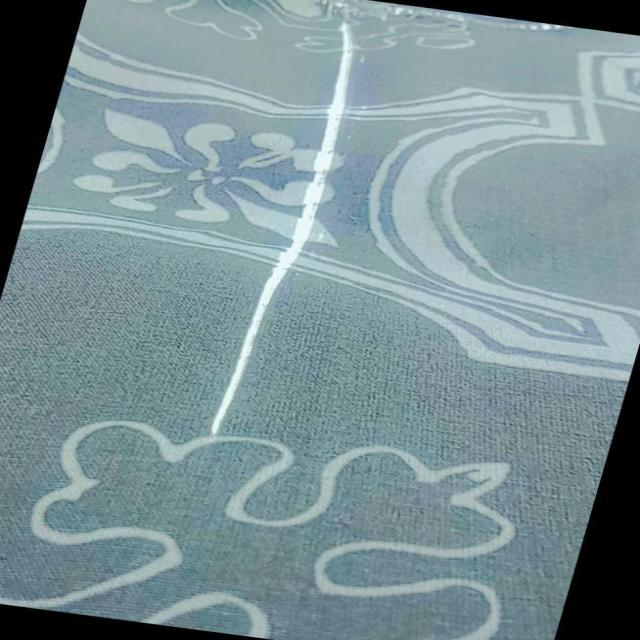selvet: (200, 4, 383, 447)
